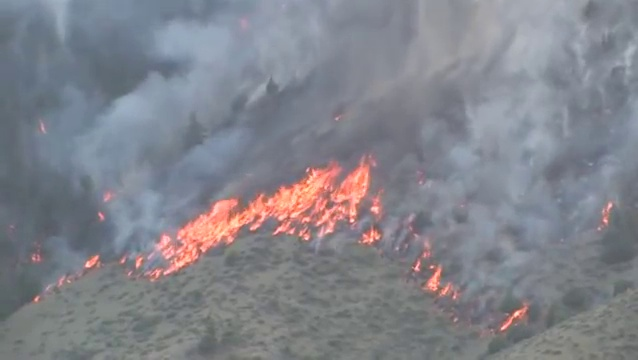fire: (149, 165, 369, 275), (427, 271, 438, 292), (88, 255, 97, 266)
